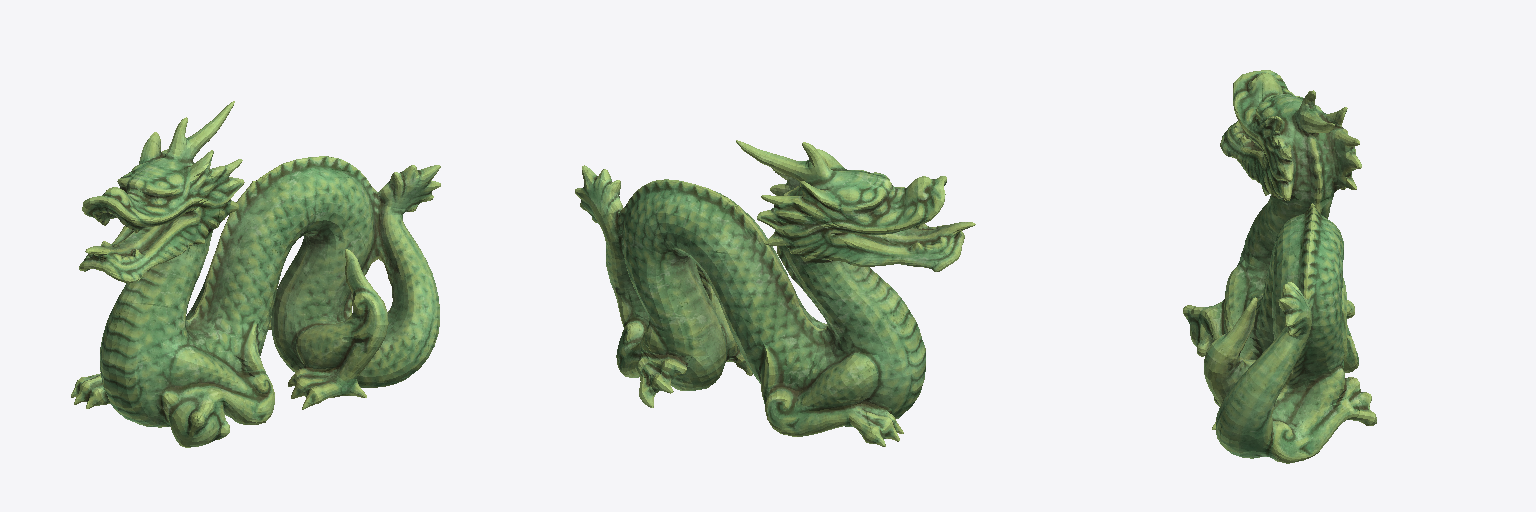
The picture shows the model from 3 angles: view 1: azimuth 30°, elevation 25°; view 2: azimuth 150°, elevation 25°; view 3: azimuth 270°, elevation 25°; orthographic projection.
Parts seen in each view (by area): view 1: obj1; view 2: obj1; view 3: obj1.
Part boxes in pixels (bbox=[...]): obj1: bbox=[71, 101, 440, 447]; obj1: bbox=[575, 140, 975, 446]; obj1: bbox=[1183, 70, 1376, 463].
Bounding box in the file's own units: 142 × 99.61 × 63.21.
1 materials, 1 textured.